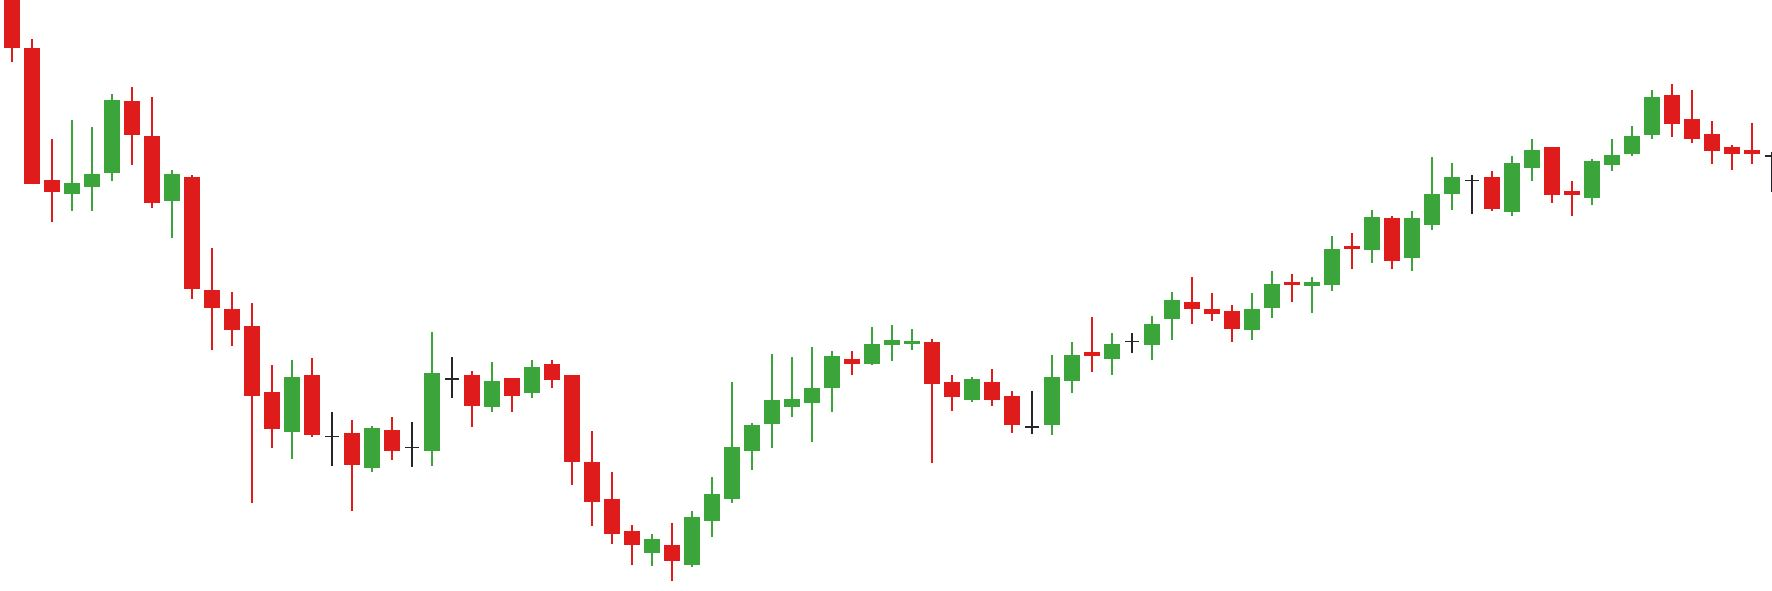sell: (281, 333, 481, 455)
